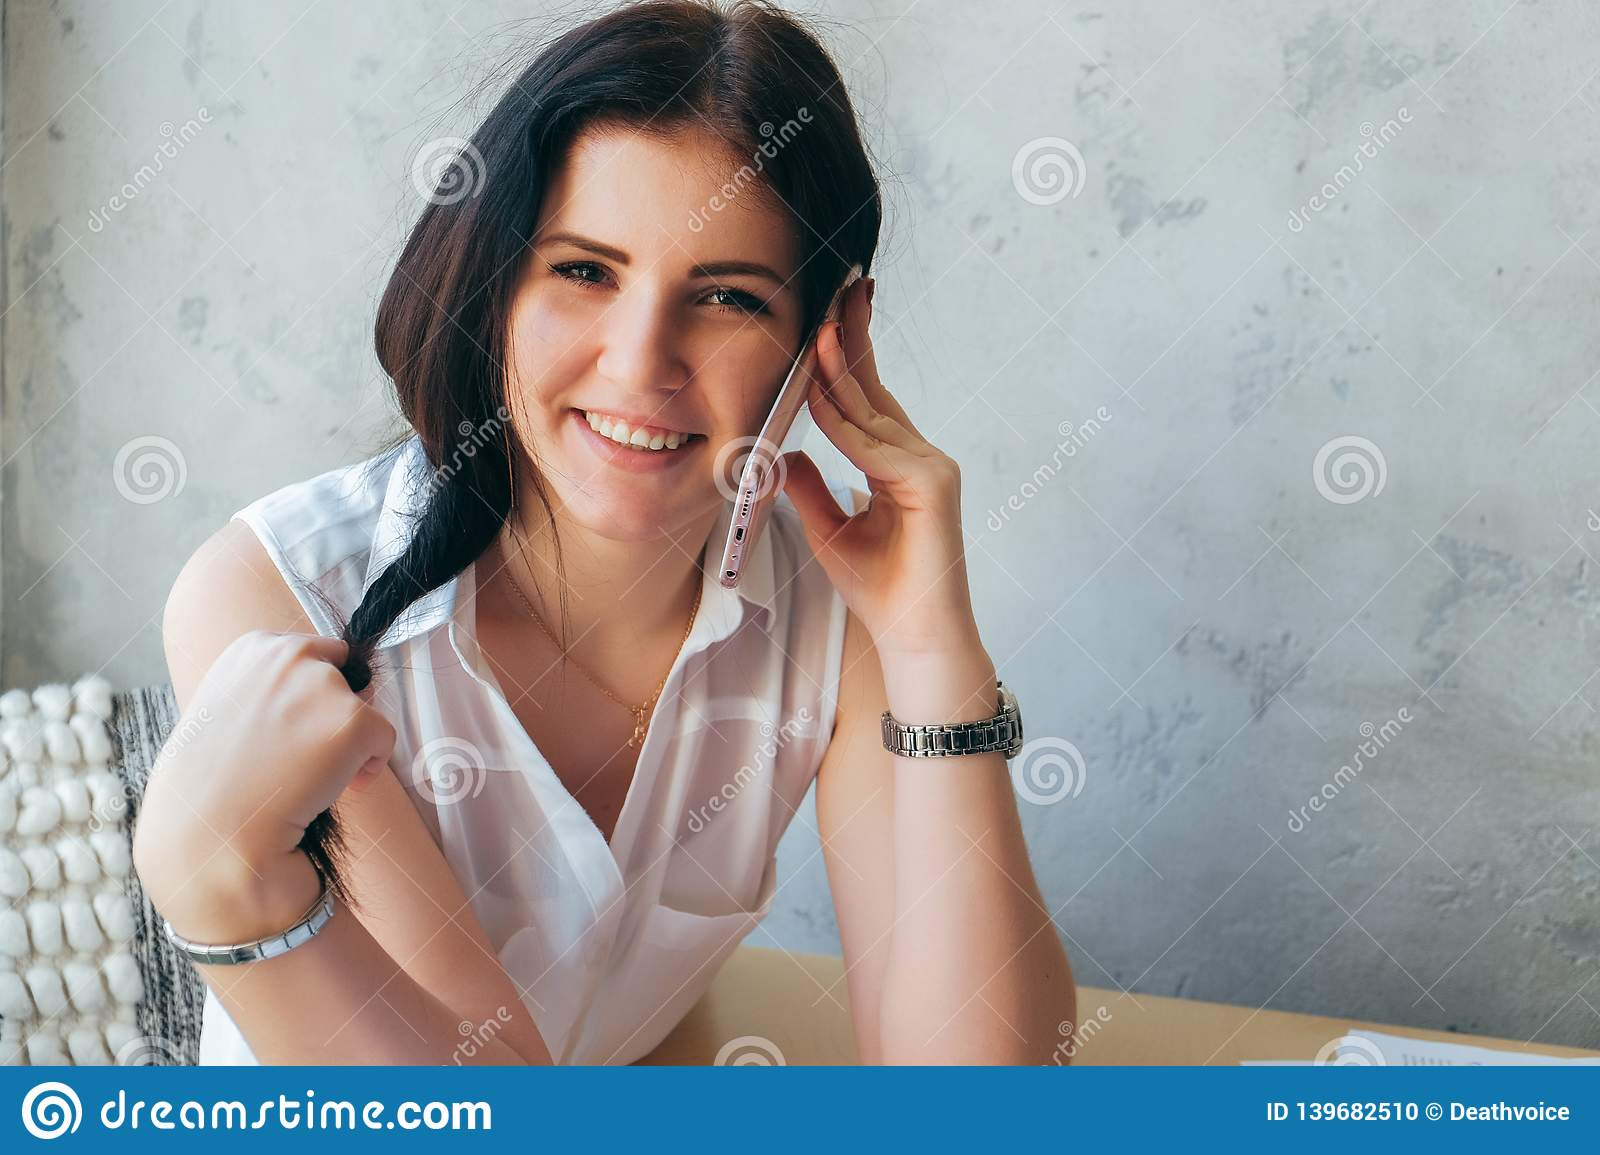phone: (720, 260, 867, 594)
talk: (518, 209, 971, 643)
